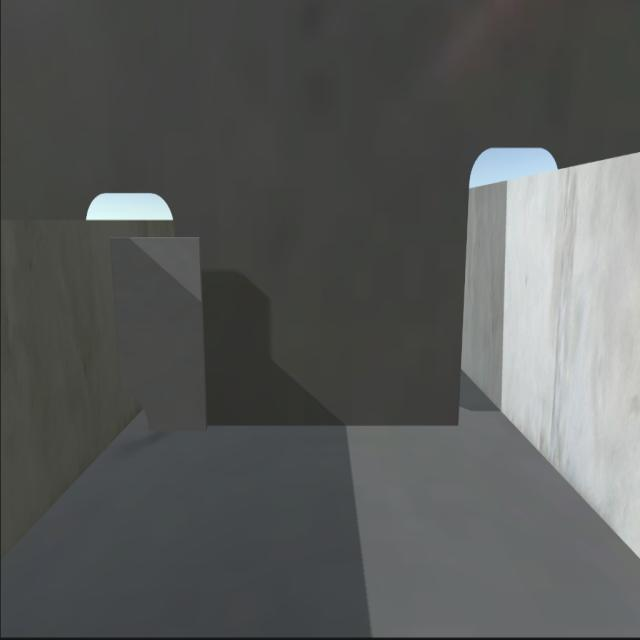fillet_hole: (122, 392, 155, 437)
fillet_yong_jeop_jang: (147, 416, 460, 432)
longi_yong_jeop_jang: (105, 236, 125, 396)
plate_CP01: (111, 235, 206, 428)
